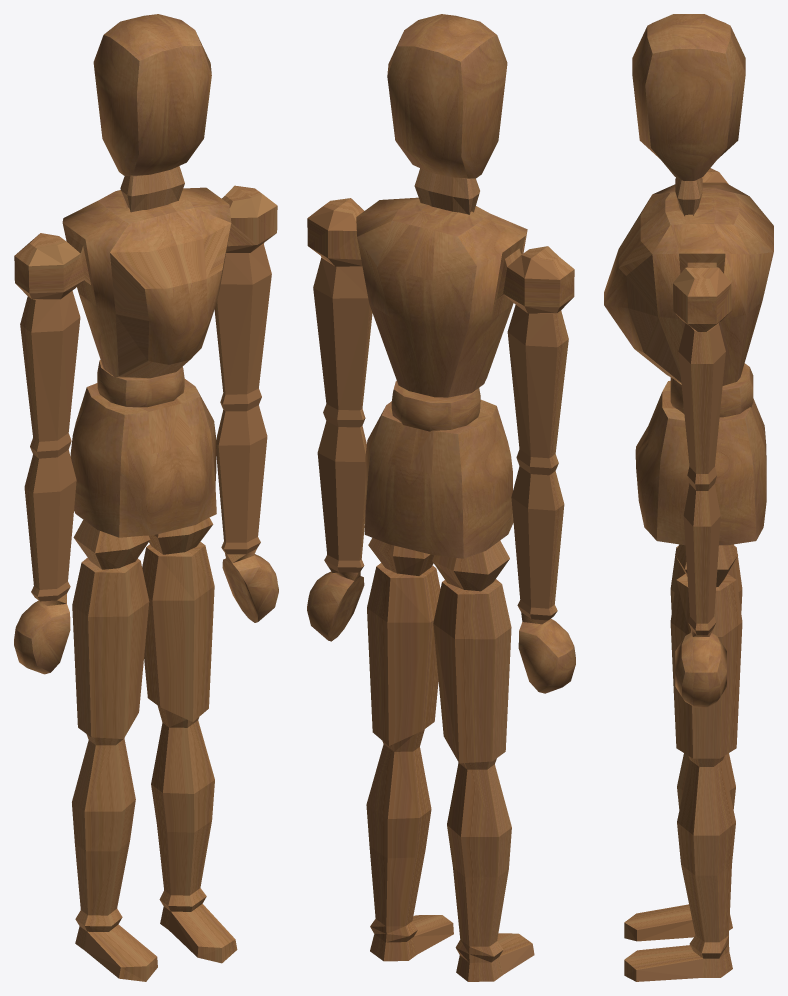
File: my3dobject3.fbx
The picture shows the model from 3 angles, left to right: view 1: azimuth 30°, elevation 25°; view 2: azimuth 150°, elevation 25°; view 3: azimuth 270°, elevation 25°; orthographic projection.
Parts seen in each view (by area): view 1: Box001; view 2: Box001; view 3: Box001.
Part boxes in pixels (<box>): Box001: <box>14,14,278,981</box>; Box001: <box>307,14,575,981</box>; Box001: <box>604,14,773,981</box>.
Size of the model in its own units: 14.56 by 8.25 by 50.2.
Materials: 1 (1 with a texture image).
